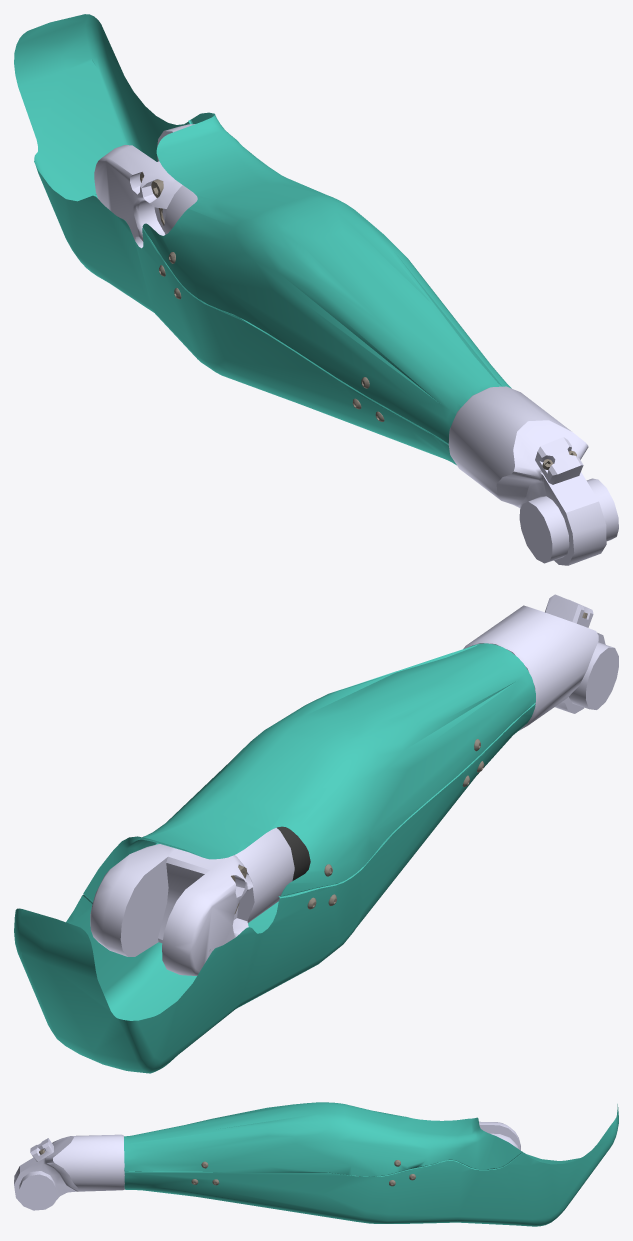
The model's file is left-shin.obj.
The picture shows the model from 3 angles, top to bottom: view 1: azimuth 30°, elevation 25°; view 2: azimuth 150°, elevation 25°; view 3: azimuth 270°, elevation 25°; orthographic projection. The views are drawn at different scales.
Visible parts, largest first — view 1: left_shin; view 2: left_shin; view 3: left_shin.
Boxes of the visible parts, <box> form: left_shin: <box>14,14,618,565</box>; left_shin: <box>14,594,618,1073</box>; left_shin: <box>14,1102,618,1226</box>.
Bounding box in the file's own units: 0.0988 × 0.1167 × 0.5742.
Materials: 1 (1 with a texture image).
